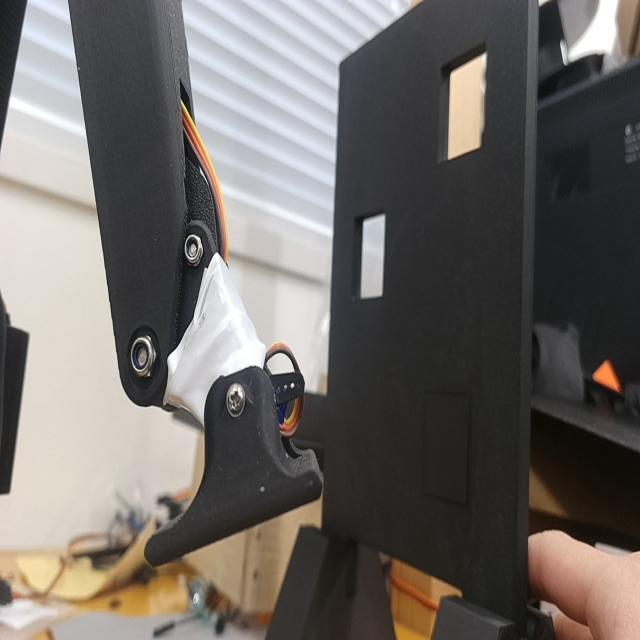Obstacle: (439, 40, 487, 163), (355, 214, 386, 298)
Wall: (323, 0, 538, 629)
